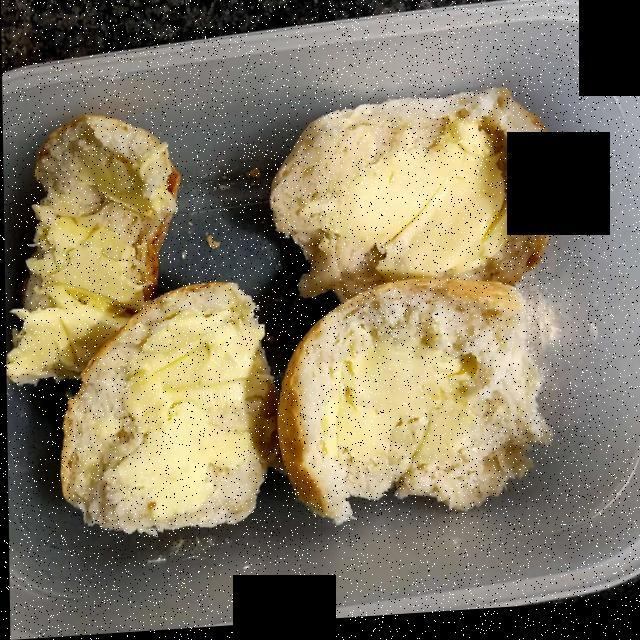bread: (13, 79, 565, 542)
butter: (15, 140, 512, 524)
